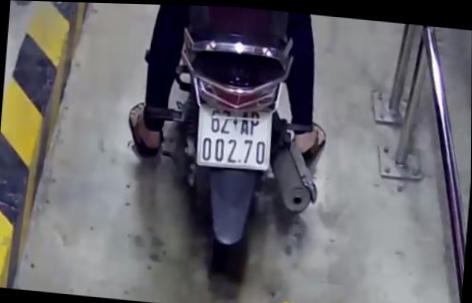LP: (187, 91, 277, 176)
